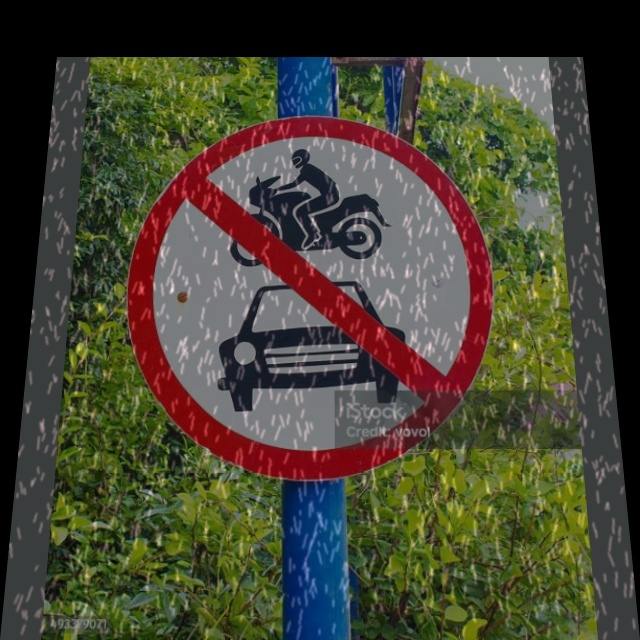All_Motor_Vehicles_Prohibited: (120, 122, 503, 477)
